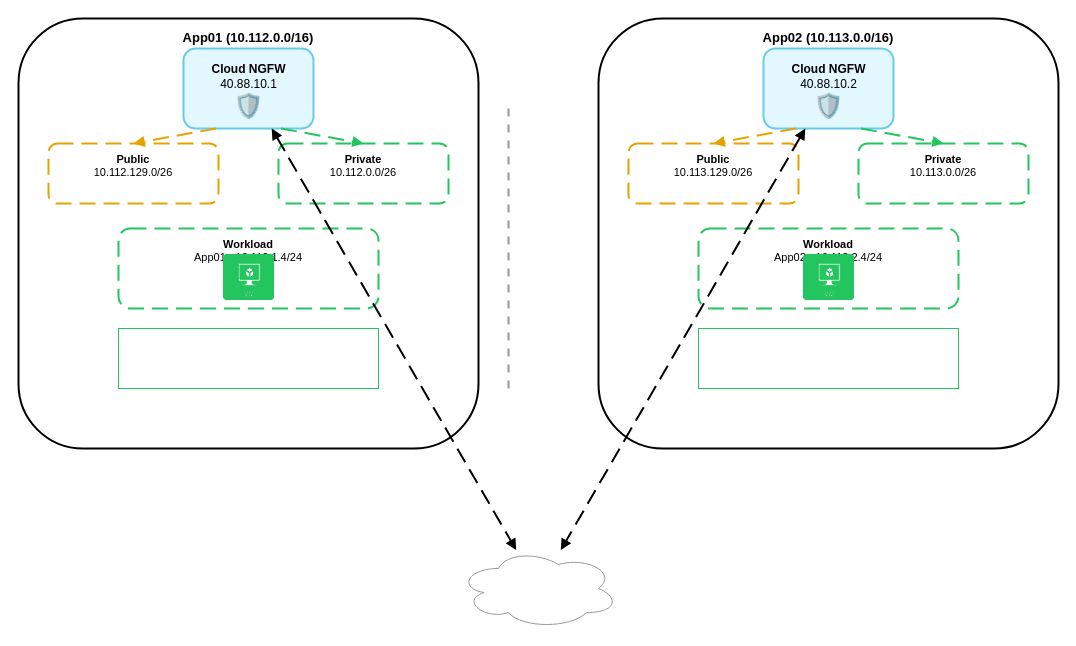
Image size: 1076x646. Some labels were removed from this diagram. Each missing label, with the centre of its shape:
"Destination Next Hop 0.0.0.0/0 10.112.0.4" goes at point 248,358.
"Destination Next Hop 0.0.0.0/0 10.113.0.4" goes at point 828,358.
"Internet" goes at point 538,588.
"No connectivity between VNets" goes at point 538,503.
